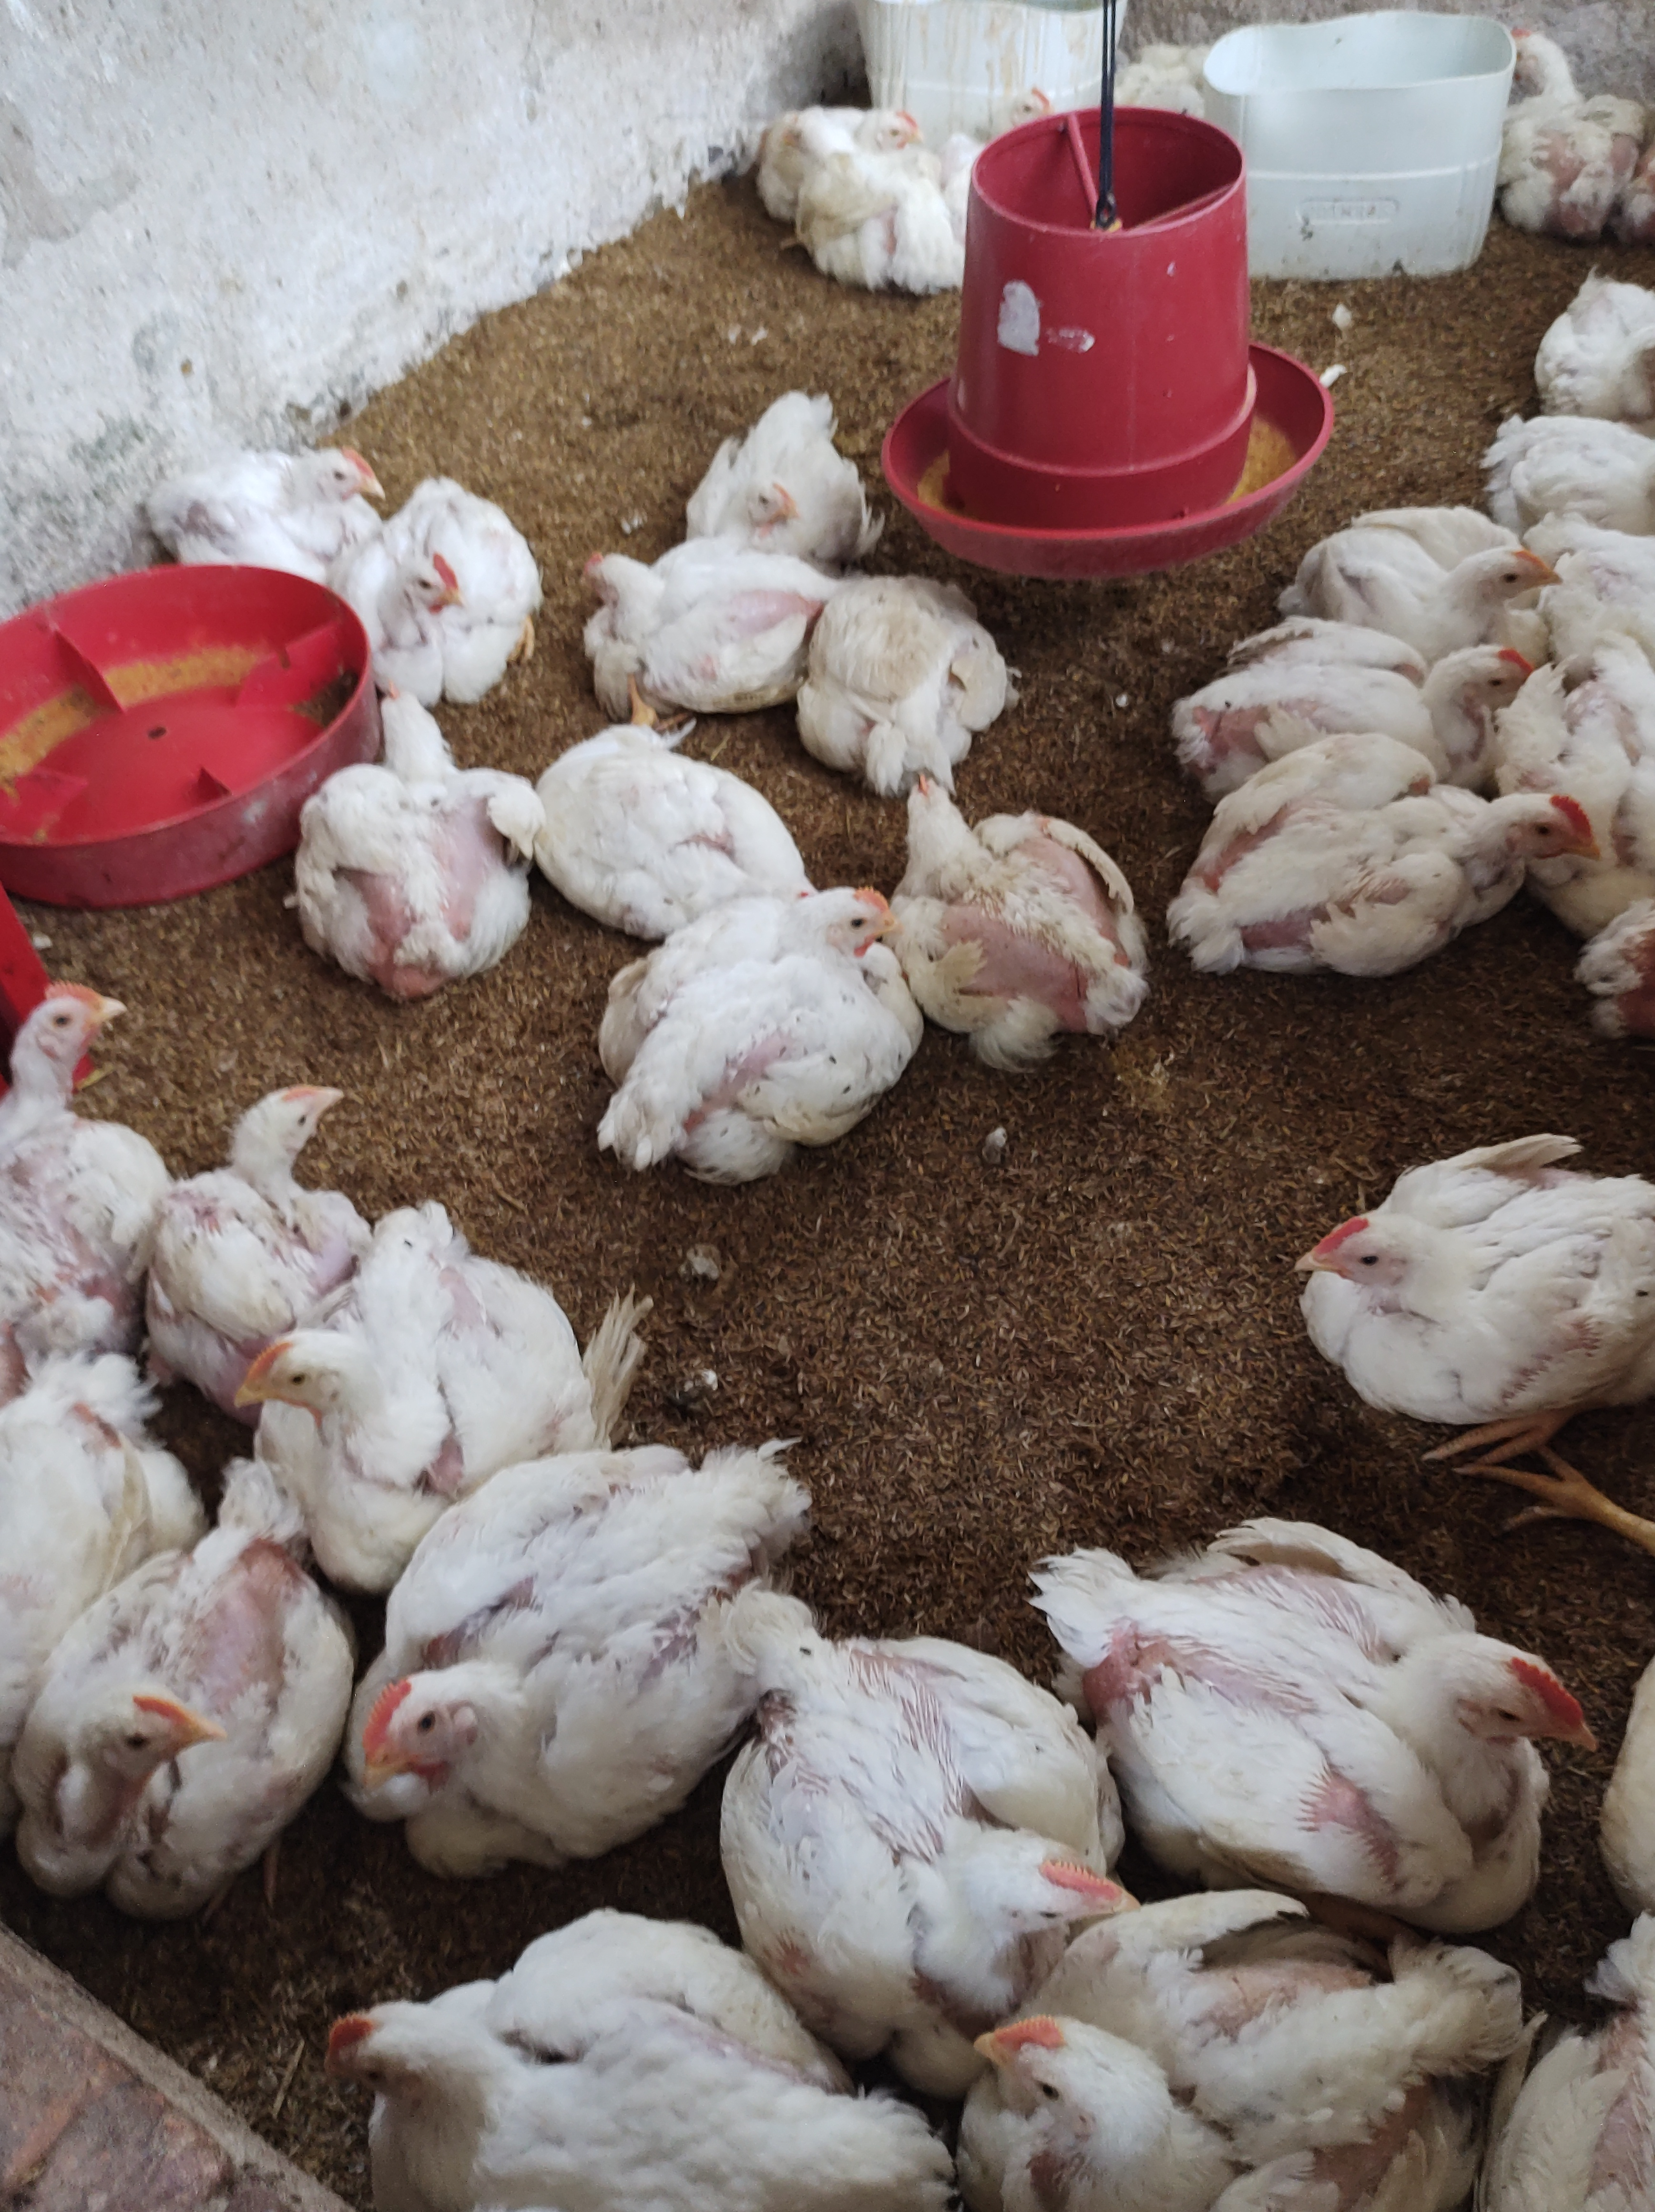Pollos: (1114, 1499, 1594, 1897), (299, 1935, 934, 2212), (342, 1518, 847, 1857), (760, 1629, 1137, 2014), (949, 1965, 1526, 2212), (0, 1504, 329, 1930), (1293, 1111, 1655, 1450), (1180, 737, 1589, 972), (240, 1290, 581, 1556), (595, 890, 901, 1183), (285, 690, 537, 1010), (901, 774, 1154, 1069), (482, 732, 826, 932), (0, 965, 177, 1344), (1226, 577, 1533, 763), (169, 1052, 377, 1315), (793, 550, 1012, 779), (574, 532, 819, 730), (341, 487, 544, 708), (153, 421, 407, 577), (702, 369, 876, 560), (1292, 518, 1540, 642), (1499, 24, 1632, 219), (1532, 270, 1655, 428), (1492, 398, 1648, 511), (761, 83, 927, 172), (984, 49, 1066, 141)
